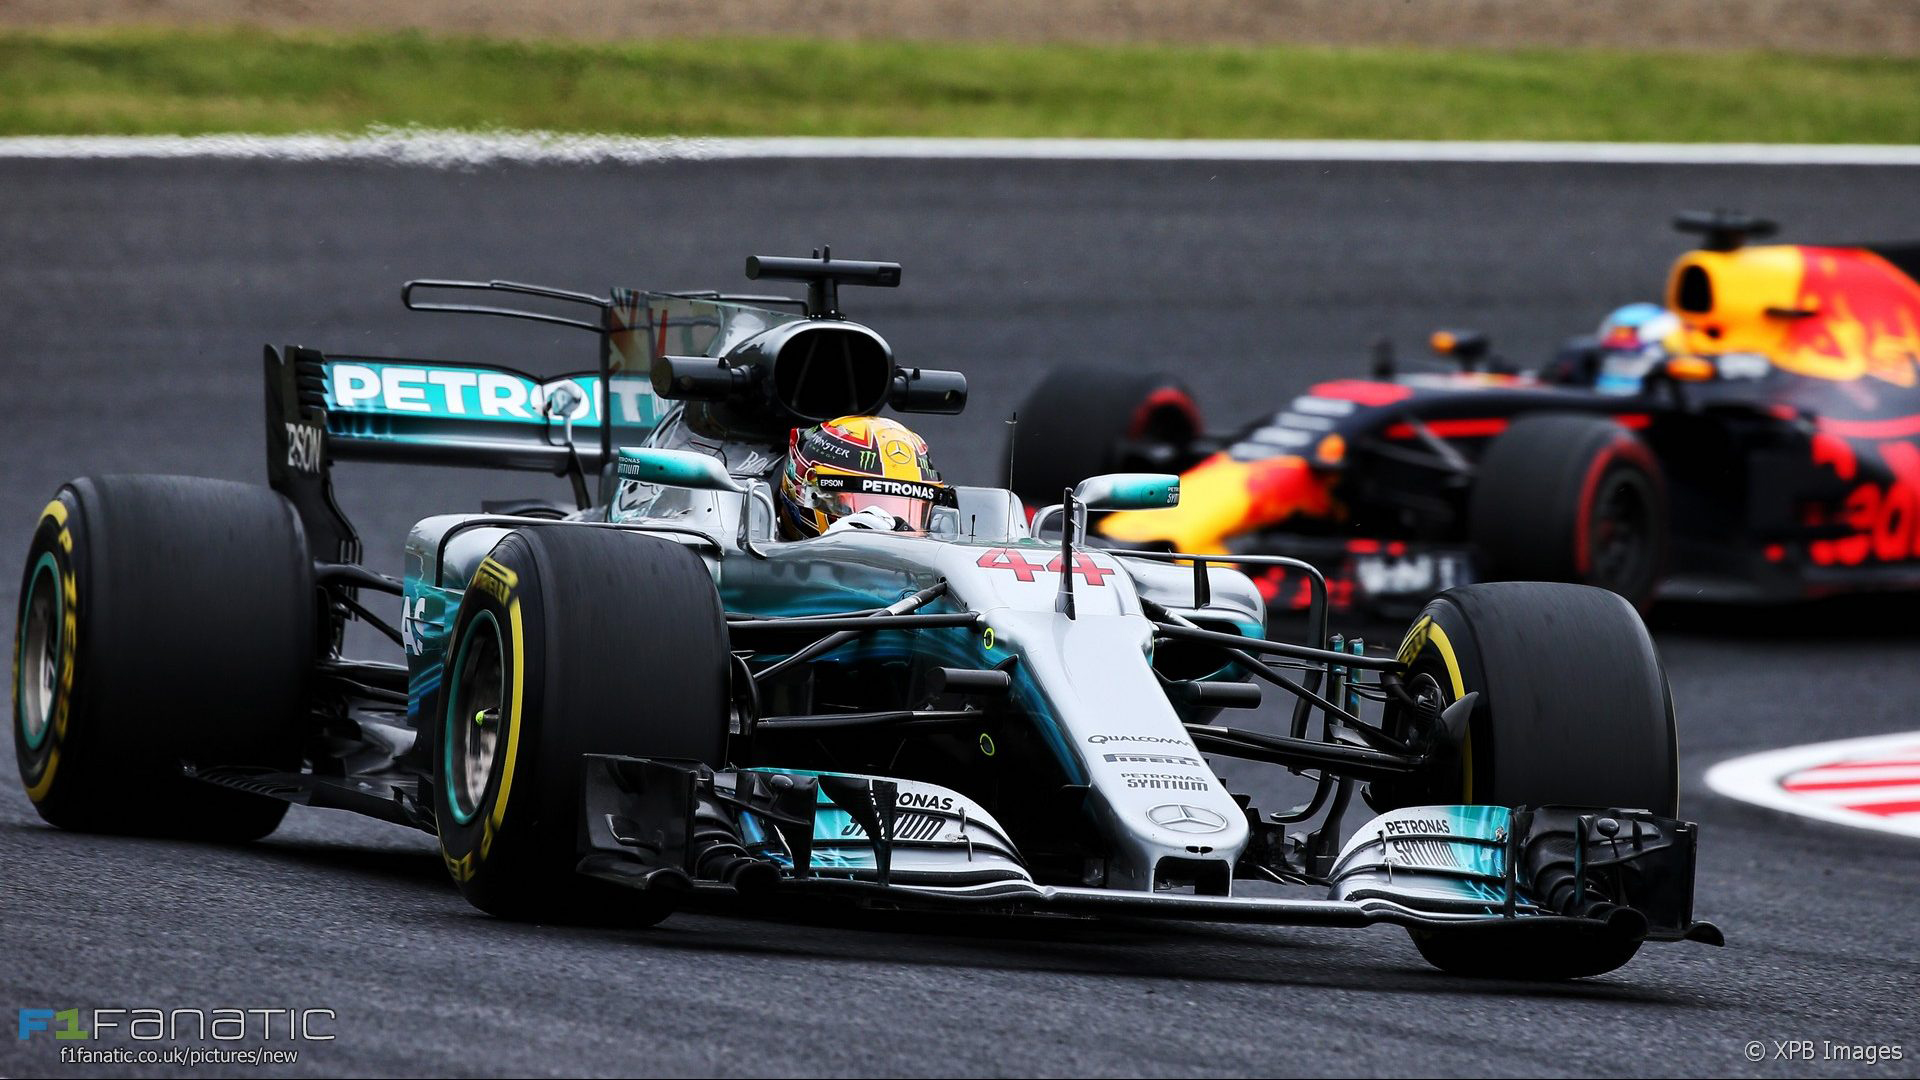F1 Car: (8, 223, 1726, 1011)
